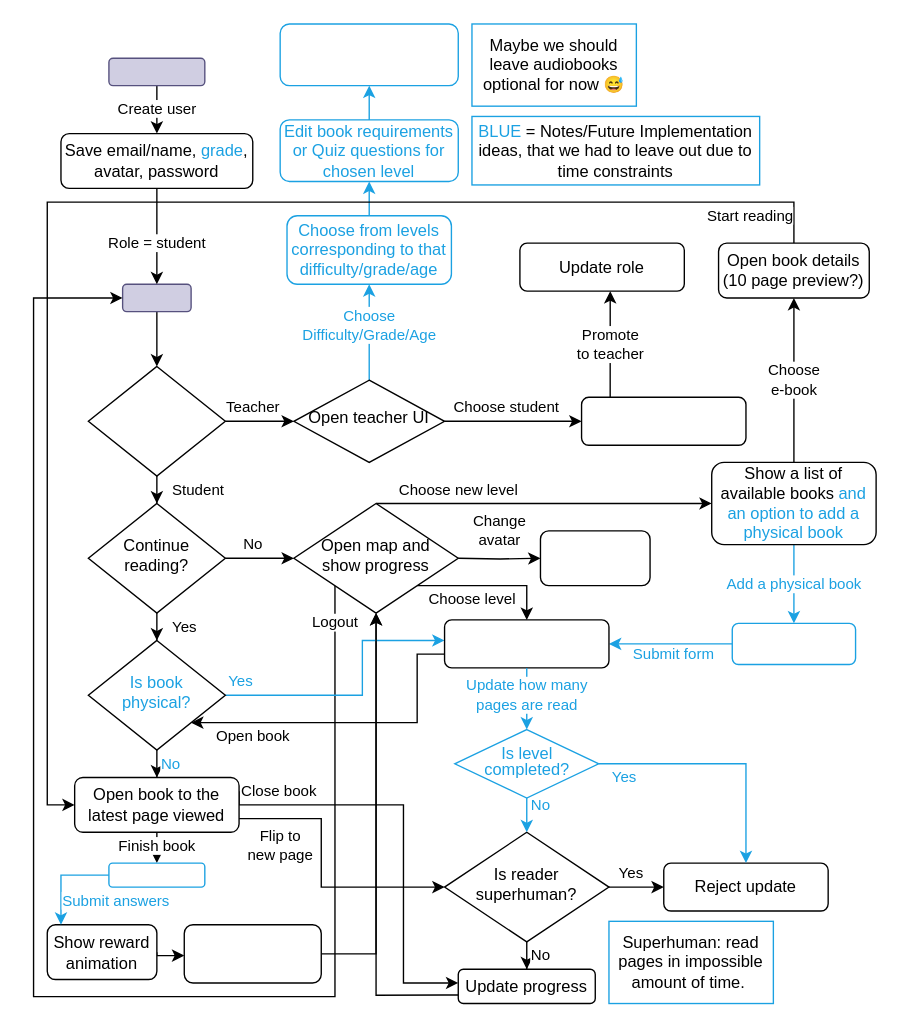
Some shapes in this 900 by 1032 pixel diagram are drawn without their labels. Here are the shapes that lost their labels. From the top down, the box of each, then its label:
(108, 57, 205, 86): Sign up
(279, 23, 458, 86): ( optional ) Show a list of students currently completing that level
(121, 283, 191, 312): Login
(87, 365, 225, 476): Role
(580, 396, 746, 445): Show student progress dashboard
(539, 530, 650, 586): Update user profile
(443, 619, 609, 668): Show book information and cover
(731, 622, 856, 664): Show a form for adding a book
(108, 862, 205, 887): Open quiz
(183, 923, 321, 983): Save completion, give reward, unlock next level
